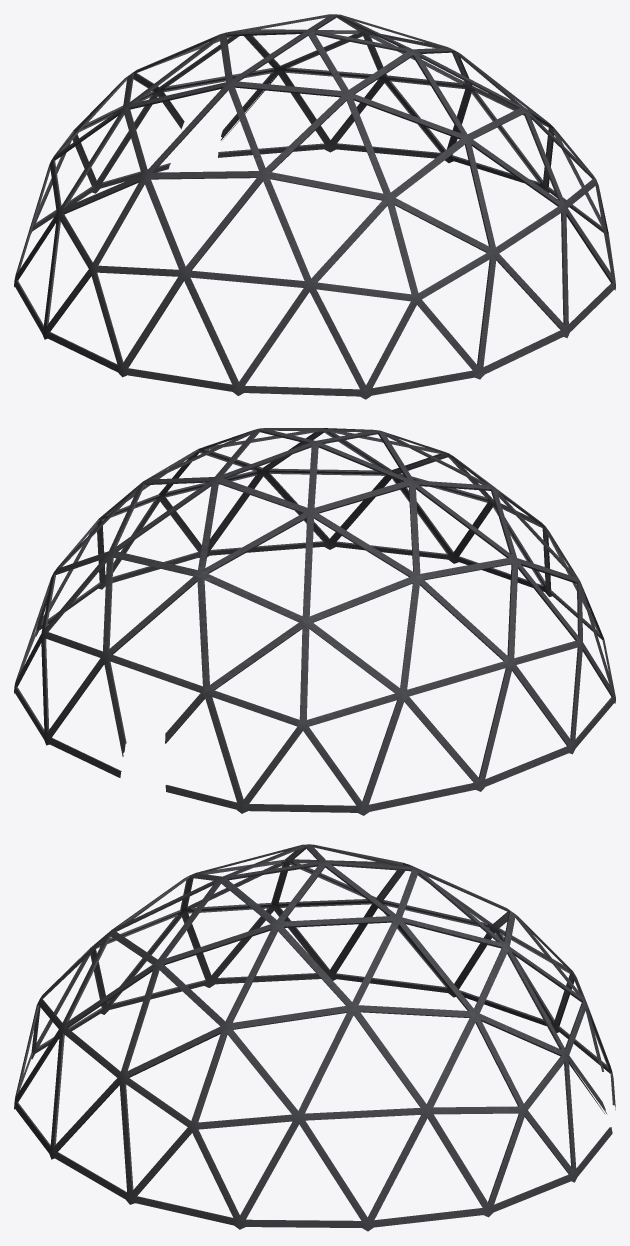
The model's file is DomoMetal.obj.
3 views of the same model, one above another, from view 1: azimuth 30°, elevation 25°; view 2: azimuth 150°, elevation 25°; view 3: azimuth 270°, elevation 25° (orthographic).
Visible parts, largest first — view 1: DomoMetal:pPlatonic1; view 2: DomoMetal:pPlatonic1; view 3: DomoMetal:pPlatonic1.
Part boxes in pixels (x1,y1,x2,y2): DomoMetal:pPlatonic1: (14, 14, 615, 399); DomoMetal:pPlatonic1: (14, 428, 615, 815); DomoMetal:pPlatonic1: (14, 844, 615, 1231).
Size of the model in its own units: 22.49 by 10.32 by 22.47.
Materials: 1 (1 with a texture image).
